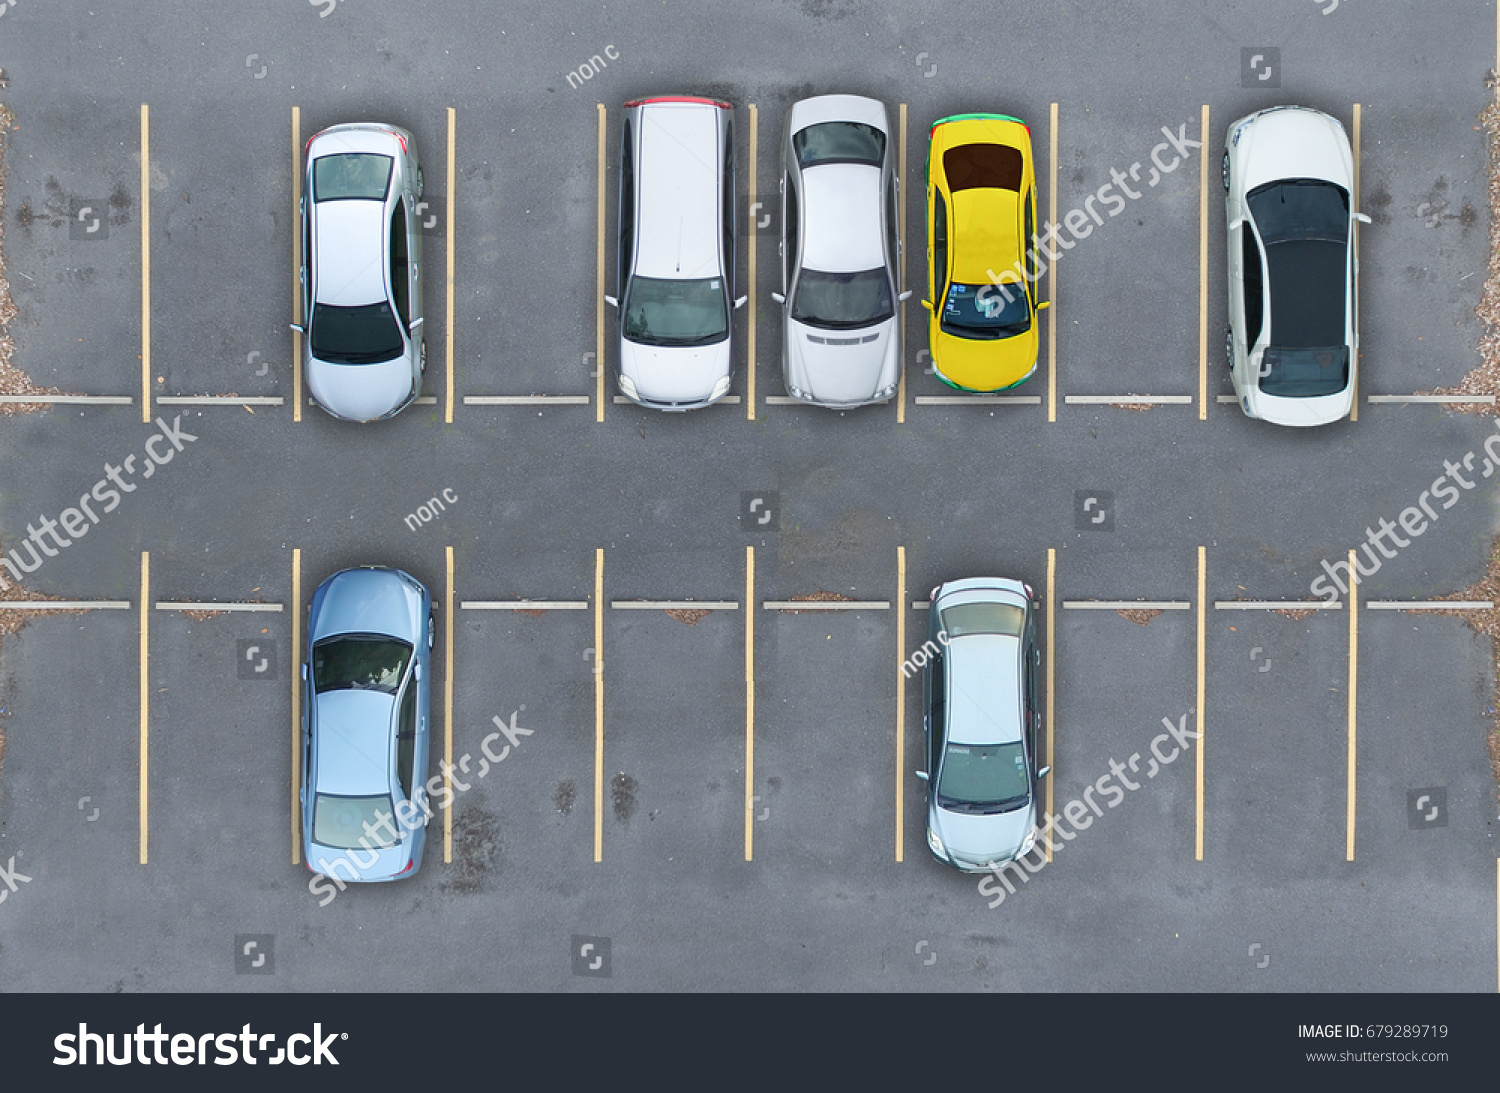Car: (1214, 97, 1359, 440), (298, 560, 438, 887), (603, 88, 742, 414), (295, 109, 431, 430), (774, 88, 901, 419), (920, 572, 1039, 883), (918, 109, 1043, 397)
LaneMark: (137, 548, 154, 864), (139, 94, 154, 420), (1050, 392, 1193, 407), (1205, 597, 1347, 612), (156, 393, 283, 407), (156, 599, 283, 612), (1, 393, 133, 405), (461, 396, 592, 407), (1, 602, 137, 612), (604, 599, 741, 610), (457, 599, 588, 610), (756, 599, 896, 609), (1059, 599, 1195, 609)
